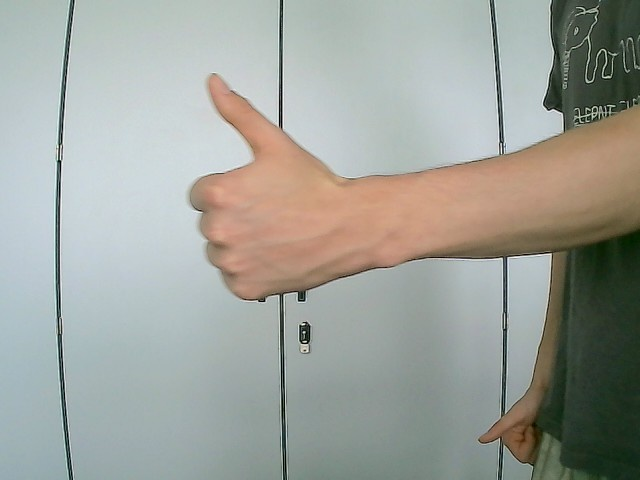up: (188, 71, 367, 302)
